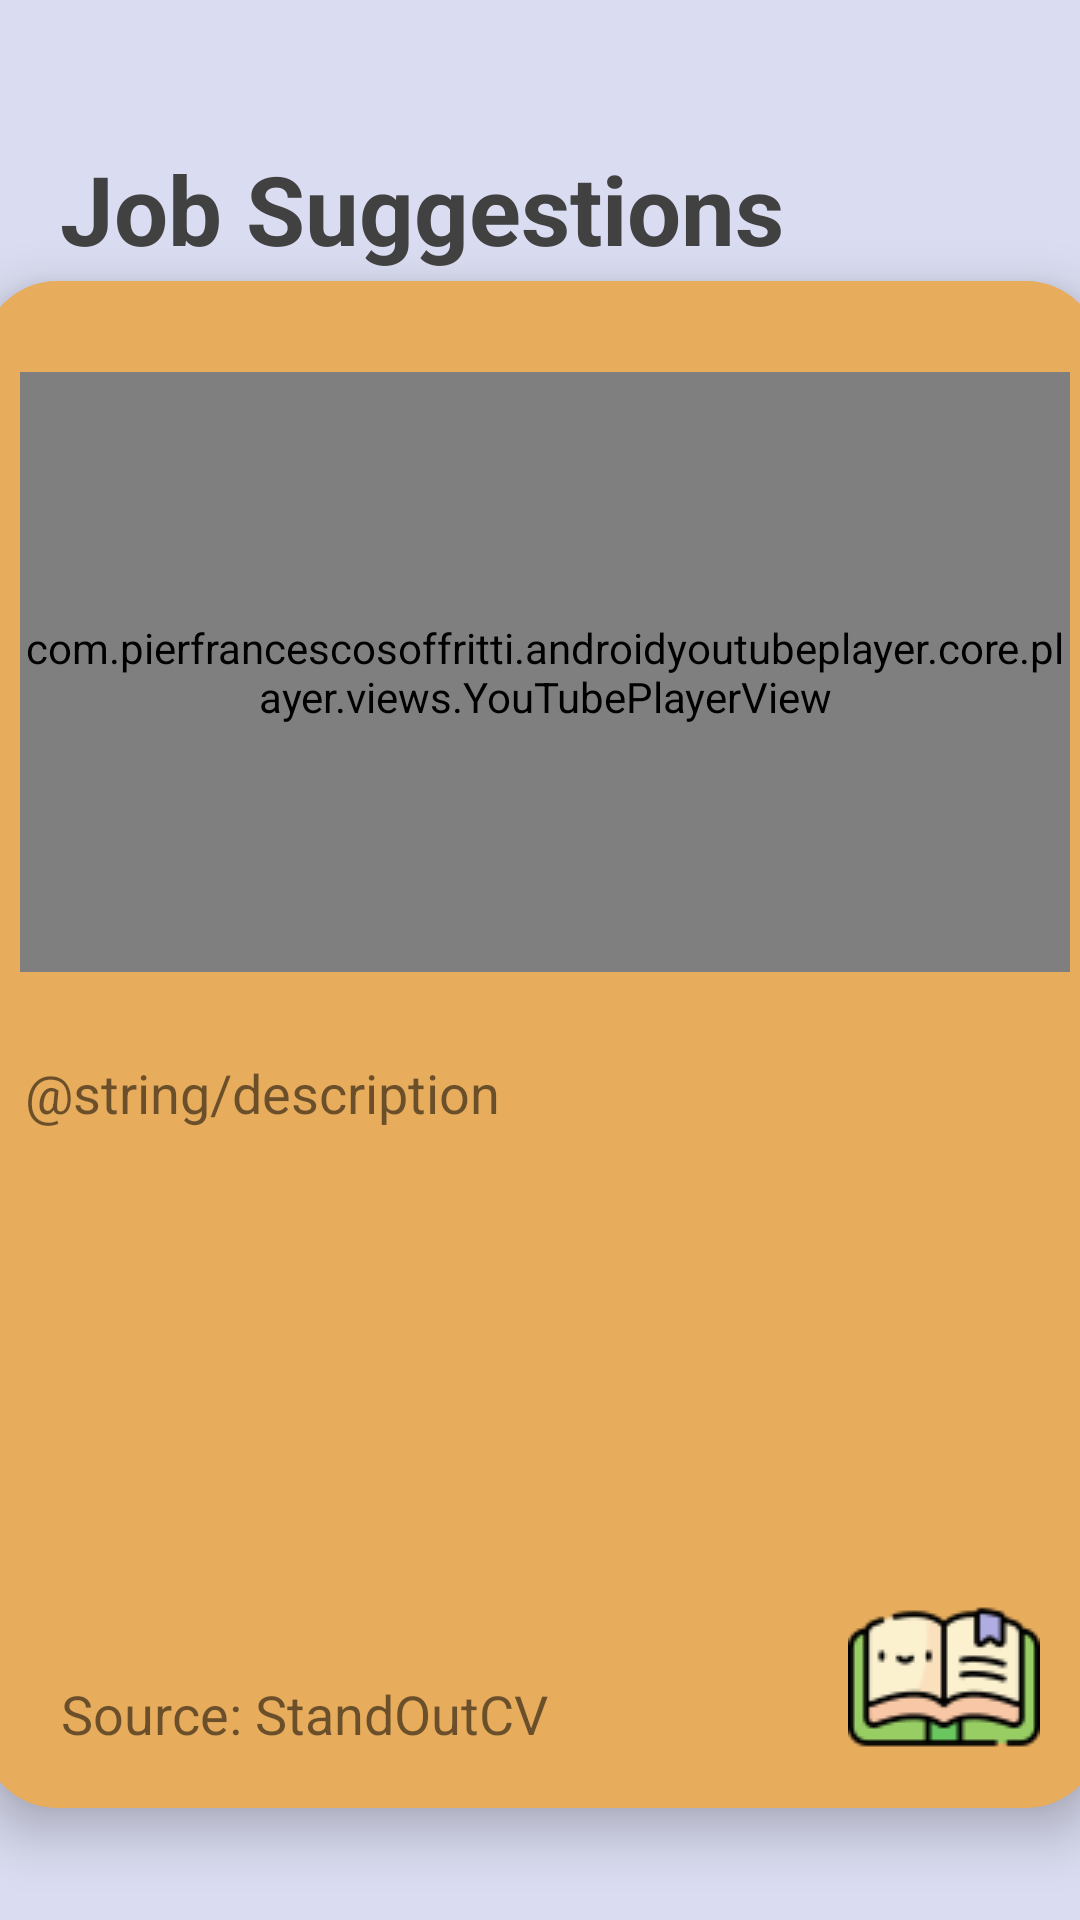

Icon click points for this 1080×1920 phone screenshot, format (x,y):
reading: (944,1677)
